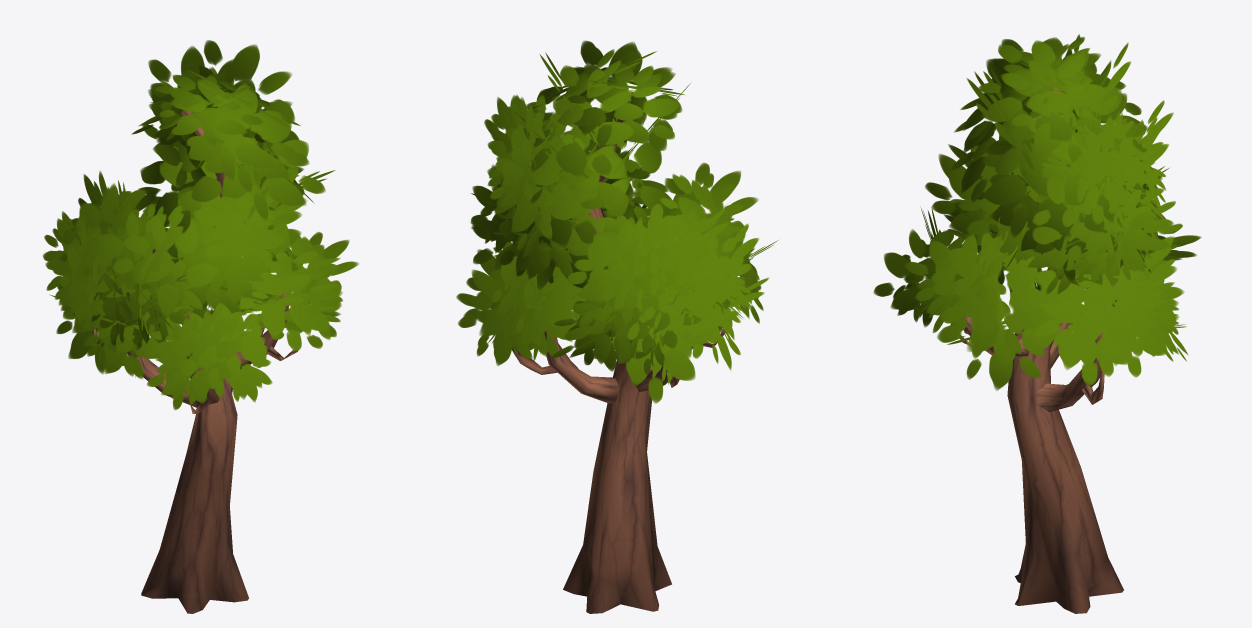
File: broad-2.glb
3 views of the same model, side by side, from view 1: azimuth 30°, elevation 25°; view 2: azimuth 150°, elevation 25°; view 3: azimuth 270°, elevation 25° (orthographic). The views are drawn at different scales.
Visible parts, largest first — view 1: CommonTree_2; view 2: CommonTree_2; view 3: CommonTree_2.
Part boxes in pixels (x1,y1,x2,y2): CommonTree_2: (43,40,358,613); CommonTree_2: (456,40,778,613); CommonTree_2: (873,34,1201,613).
Bounding box in the file's own units: 4.98 × 7.73 × 4.76.
2 materials, 2 textured.
